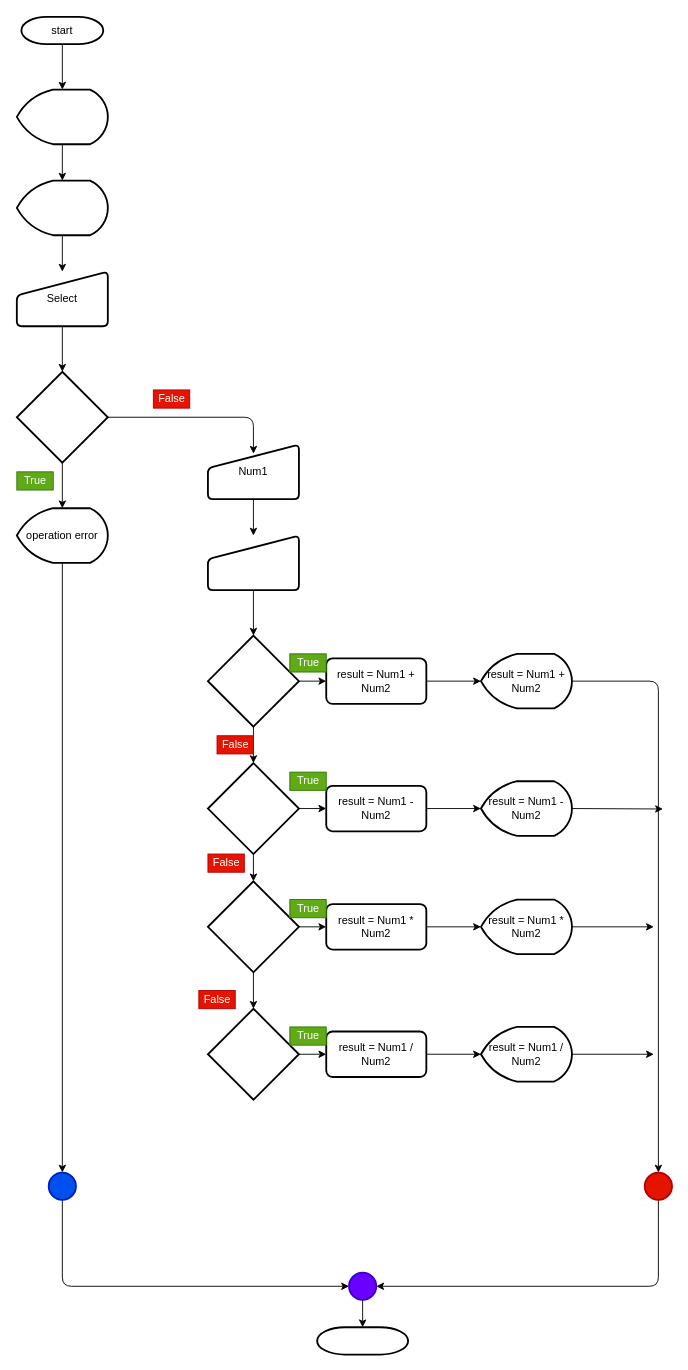
The diagram is 688 pixels wide and 1370 high, and some of its shapes have lost their labels. Each missing label, with the centre of its shape:
"Add Subtract Muktiply Divide" belongs at point 61,207.
"End" belongs at point 362,1340.
"Num2" belongs at point 253,562.
"Please select operation" belongs at point 61,116.
"Selact == 1" belongs at point 253,680.
"Selact == 2" belongs at point 253,808.
"Selact == 3" belongs at point 253,926.
"Selact == 4" belongs at point 253,1053.
"Select == 0 or Select >= 5" belongs at point 61,416.
